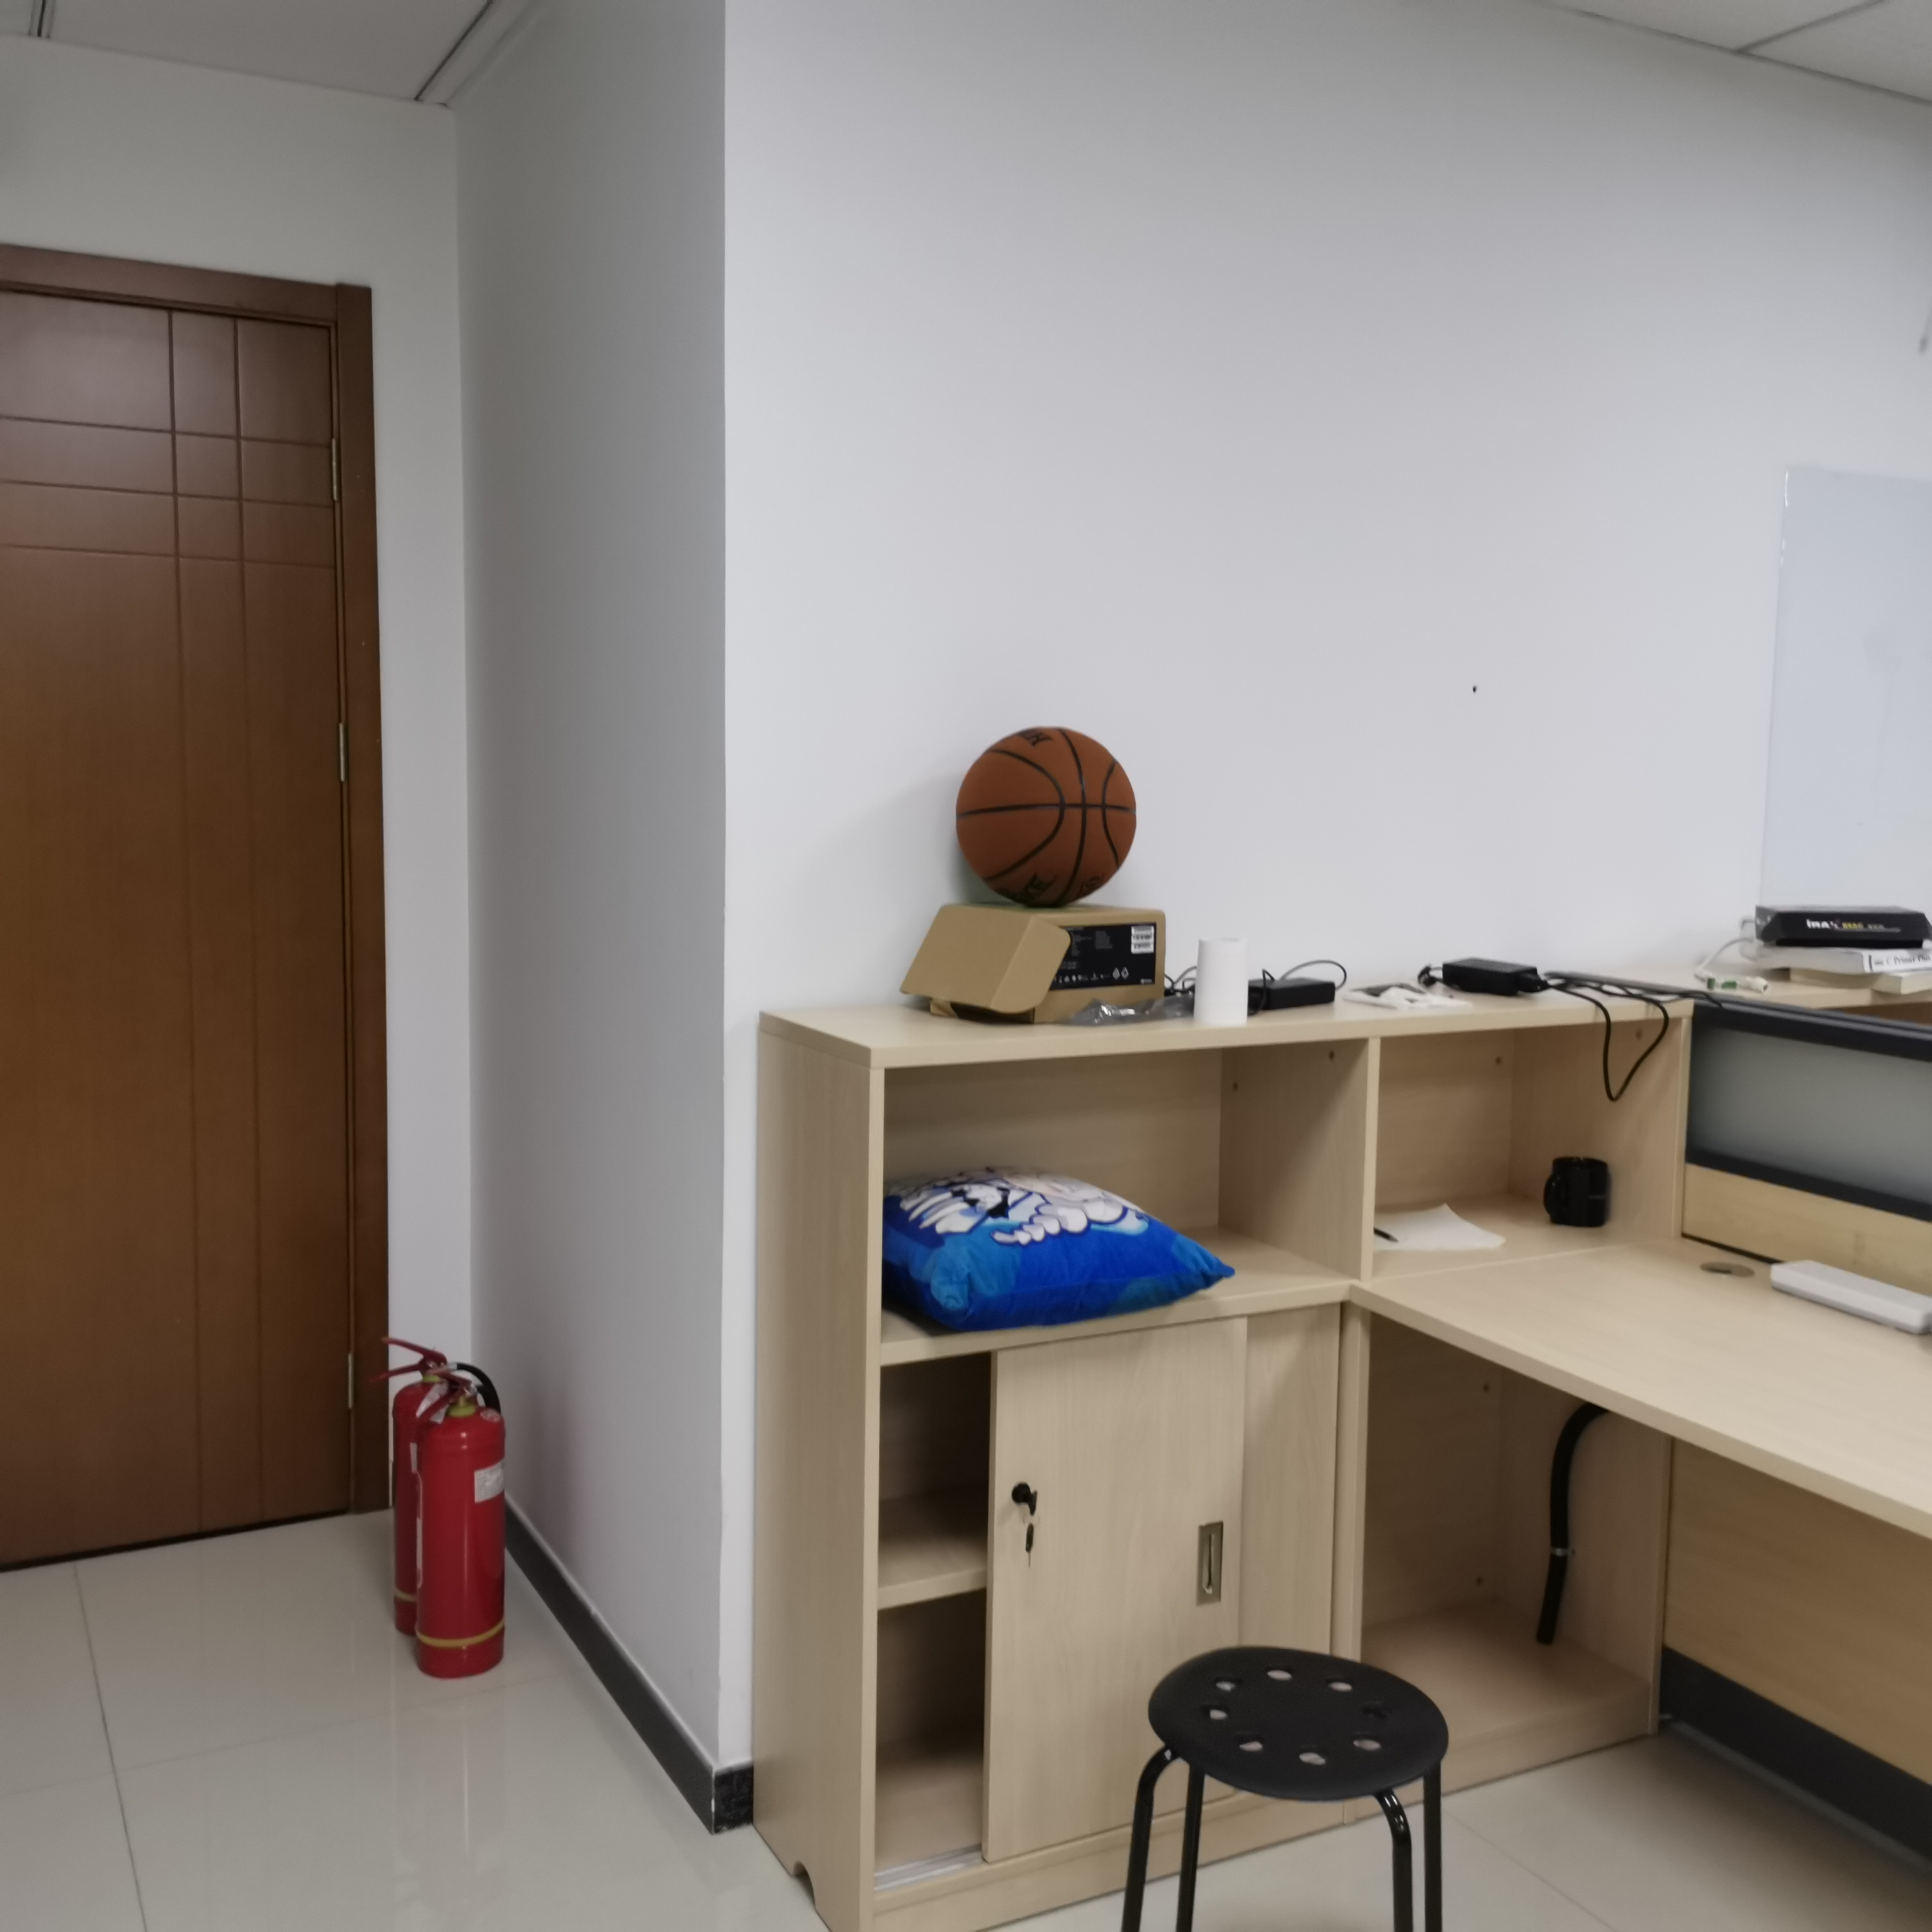basketball: (957, 725, 1138, 909)
